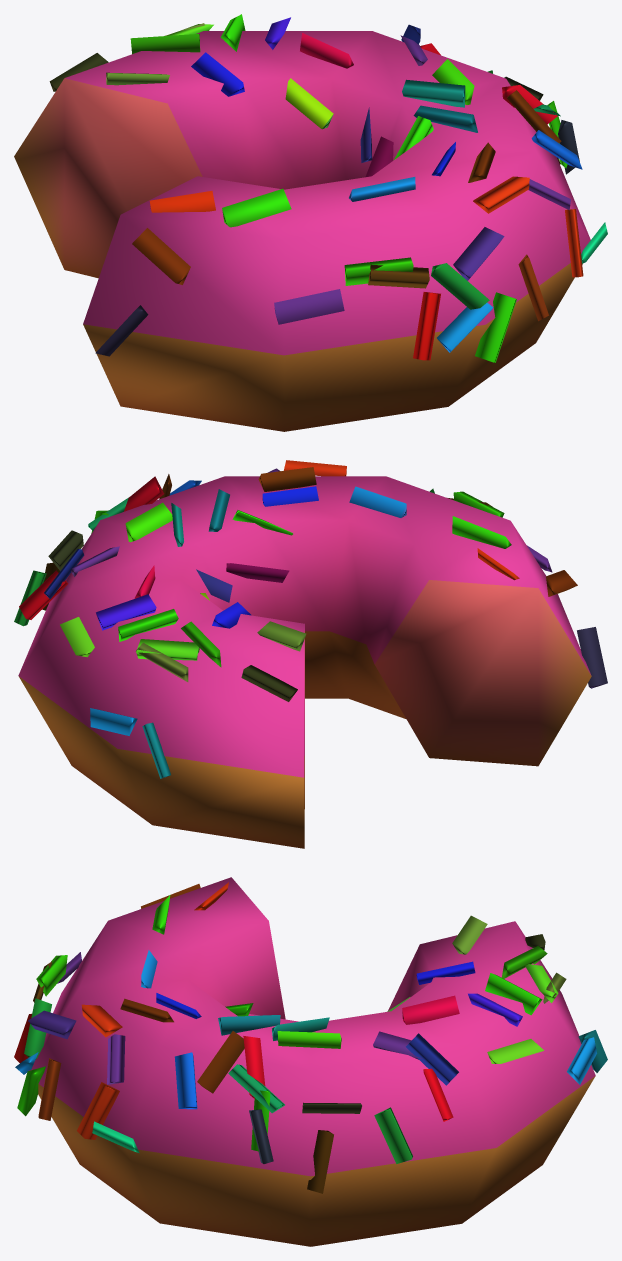
File: ColoredDonut_Bitten.fbx
3 views of the same model, one above another, from view 1: azimuth 30°, elevation 25°; view 2: azimuth 150°, elevation 25°; view 3: azimuth 270°, elevation 25° (orthographic). The views are drawn at different scales.
Parts seen in each view (by area): view 1: ColoredDonut_Bitten; view 2: ColoredDonut_Bitten; view 3: ColoredDonut_Bitten.
Part boxes in pixels (<box>): ColoredDonut_Bitten: <box>14,14,607,431</box>; ColoredDonut_Bitten: <box>14,460,607,848</box>; ColoredDonut_Bitten: <box>14,877,607,1246</box>.
Bounding box in the file's own units: 36.24 × 14.06 × 37.46.
